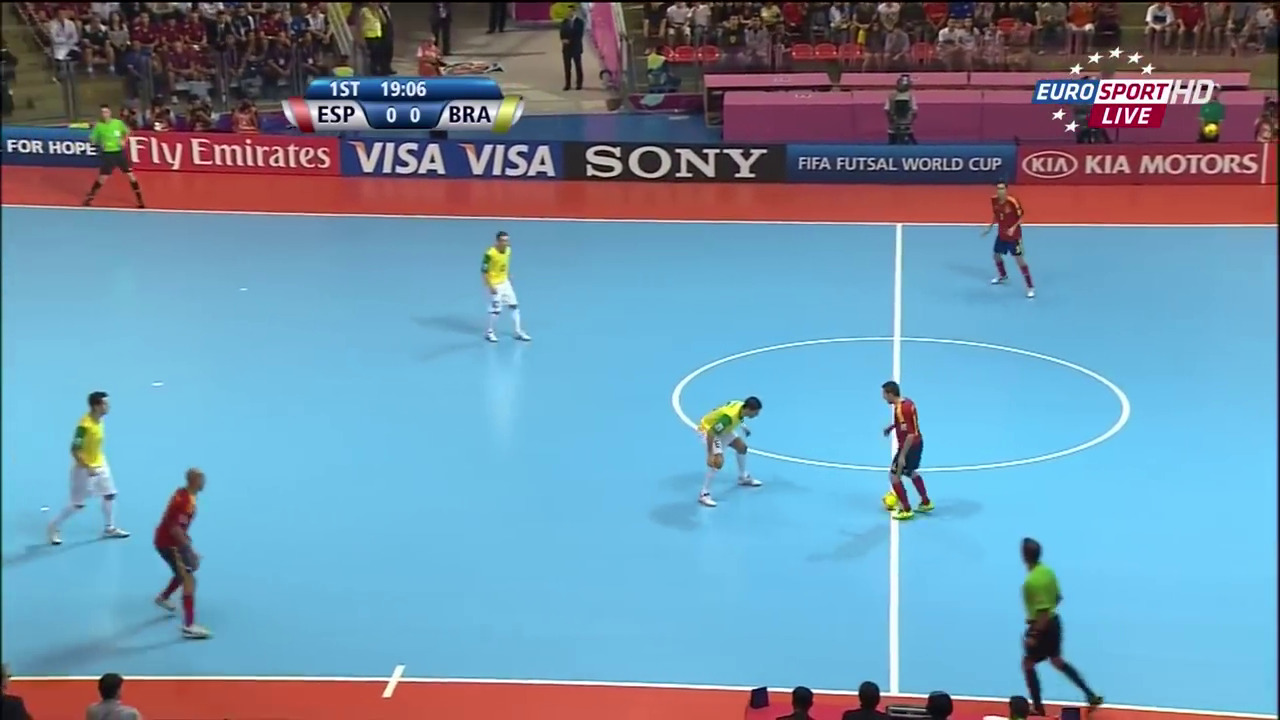ball: (879, 488, 901, 512)
person: (1005, 533, 1104, 715), (41, 382, 132, 547), (155, 462, 213, 638), (880, 375, 933, 523), (698, 391, 765, 506), (980, 176, 1033, 296), (477, 230, 524, 345)
